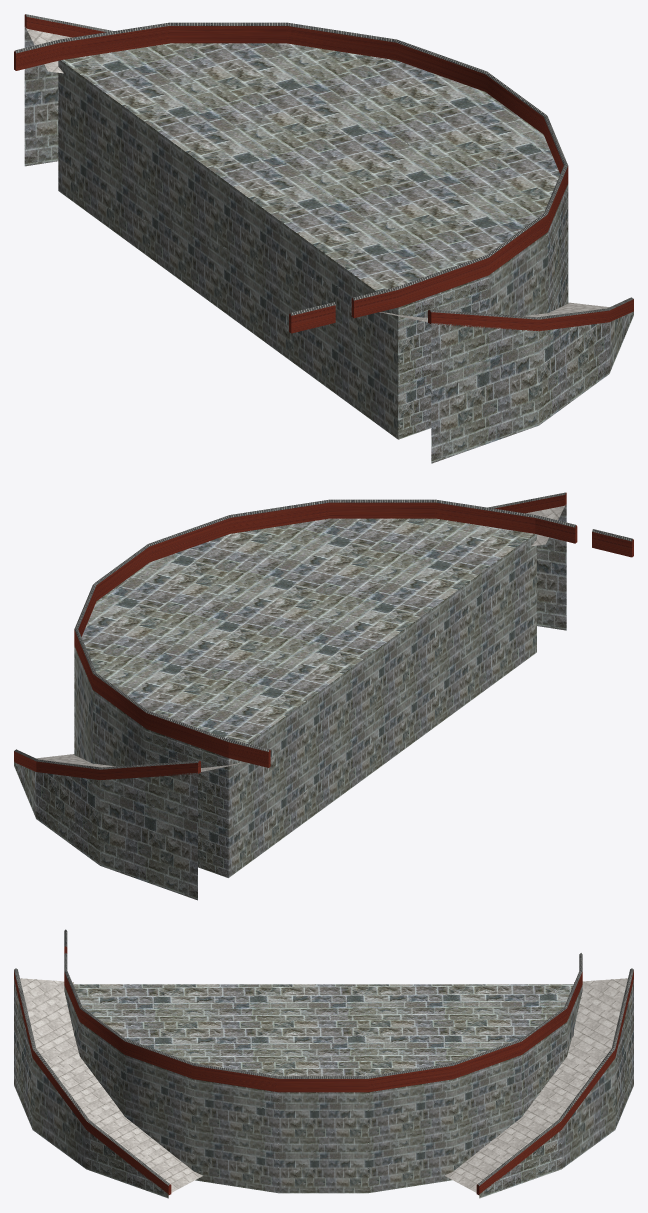
The picture shows the model from 3 angles, top to bottom: view 1: azimuth 30°, elevation 25°; view 2: azimuth 150°, elevation 25°; view 3: azimuth 270°, elevation 25°; orthographic projection. The views are drawn at different scales.
Parts seen in each view (by area): view 1: Cylinder001, Cylinder002, Cylinder004, Cylinder005, Cylinder003, Cylinder006, 对象001; view 2: Cylinder001, Cylinder005, Cylinder004, Cylinder002, Cylinder006, Cylinder003, 对象001; view 3: Cylinder001, Cylinder005, Cylinder002, Cylinder004, Cylinder006, Cylinder003.
Part boxes in pixels (<box>): Cylinder001: <box>58,43,568,439</box>; Cylinder002: <box>379,302,633,463</box>; Cylinder004: <box>14,22,568,318</box>; Cylinder005: <box>24,27,71,166</box>; Cylinder003: <box>428,297,633,331</box>; Cylinder006: <box>24,14,113,37</box>; 对象001: <box>289,302,335,333</box>; Cylinder001: <box>74,518,536,877</box>; Cylinder005: <box>14,754,244,900</box>; Cylinder004: <box>74,499,577,767</box>; Cylinder002: <box>526,504,566,630</box>; Cylinder006: <box>14,749,200,780</box>; Cylinder003: <box>488,492,566,513</box>; 对象001: <box>592,529,633,557</box>; Cylinder001: <box>64,984,582,1193</box>; Cylinder005: <box>445,978,633,1198</box>; Cylinder002: <box>14,978,202,1198</box>; Cylinder004: <box>64,953,582,1092</box>; Cylinder006: <box>476,968,633,1194</box>; Cylinder003: <box>14,968,171,1194</box>.
Size of the model in its own units: 2205 by 786 by 3775.
